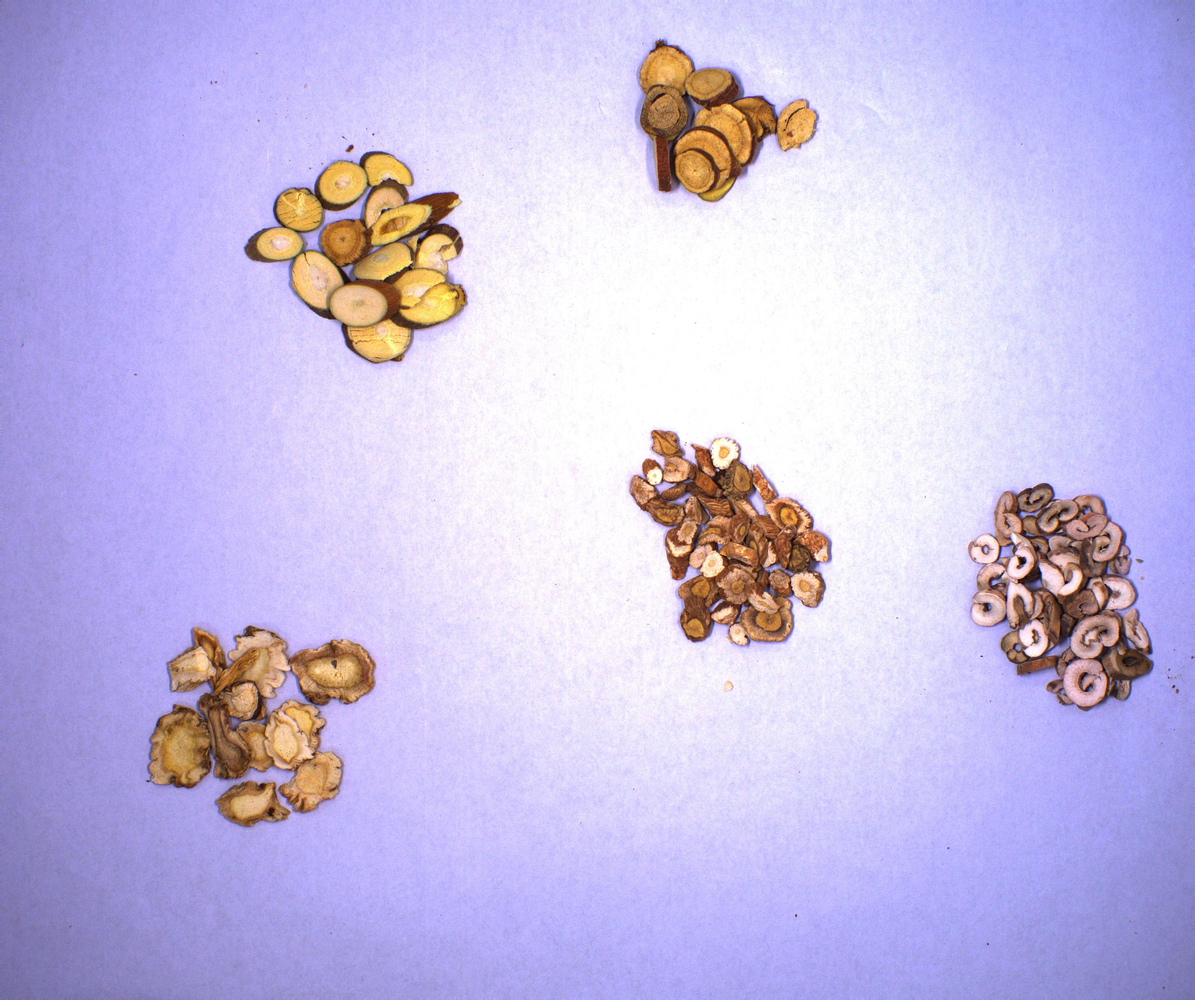banlangen: (625, 424, 832, 648)
gancao: (629, 33, 824, 208)
jiegeng: (144, 620, 378, 830)
mudanpi: (965, 482, 1155, 716)
sangzhi: (241, 154, 477, 369)
